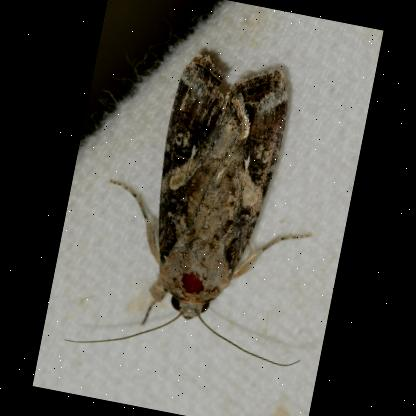Fall Armyworm Moth: (61, 31, 360, 390)
